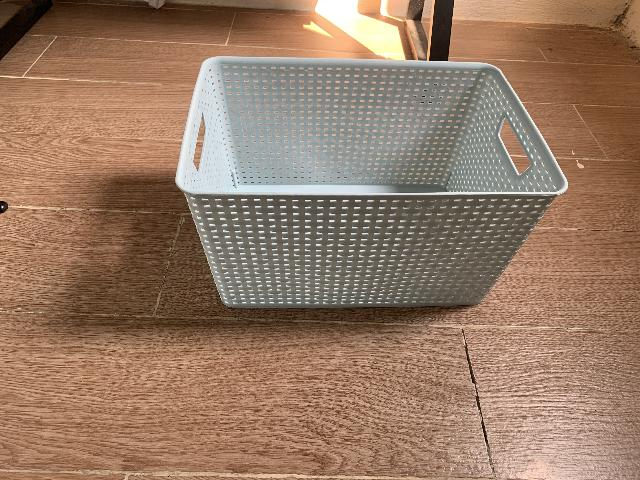cart: (177, 56, 570, 310)
